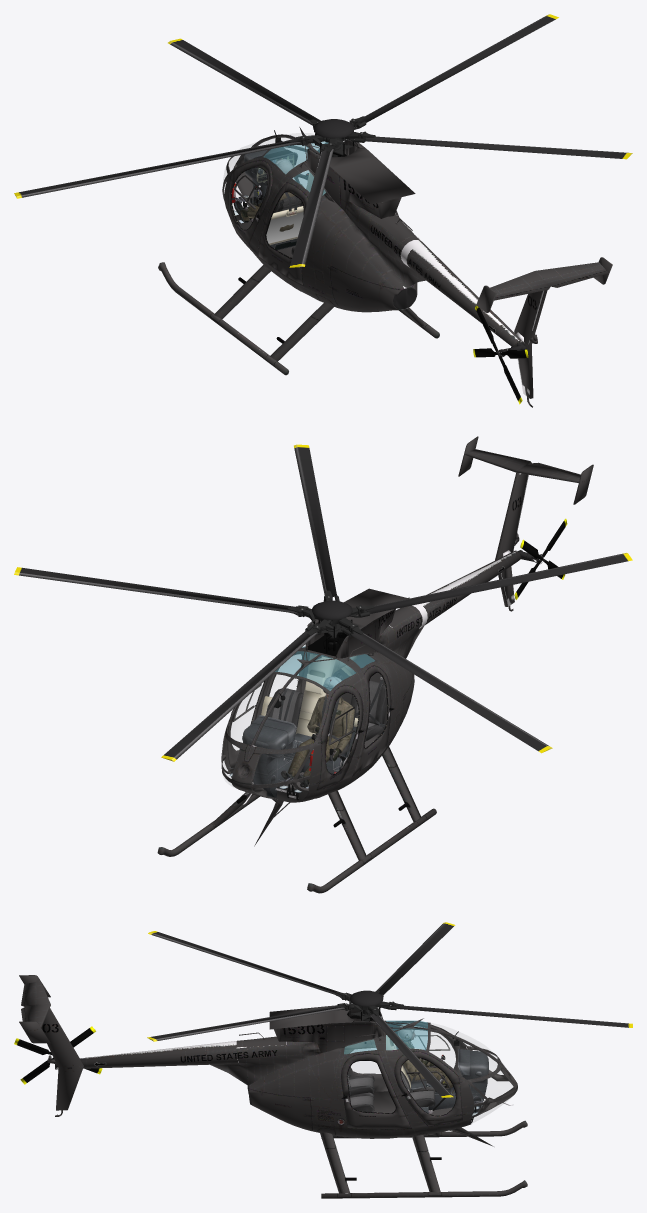
The picture shows the model from 3 angles, top to bottom: view 1: azimuth 30°, elevation 25°; view 2: azimuth 150°, elevation 25°; view 3: azimuth 270°, elevation 25°; orthographic projection. The views are drawn at different scales.
Parts seen in each view (by area): view 1: ext_fuse1, rotor_blades, int_fuse, ext_fuse1_skids, ext_fuse1_doors, ixt_console, glasss_grn, rotor_tail, rotor_hub, ixt_pilotR; view 2: ext_fuse1, rotor_blades, ixt_console, ext_fuse1_doors, ext_fuse1_skids, int_fuse, ixt_pilotR, glasss_grn, ixt_seatsB, glass, rotor_hub, ixt_seatsR (+1 smaller); view 3: ext_fuse1, rotor_blades, ext_fuse1_doors, int_fuse, ext_fuse1_skids, ixt_console, glass, glasss_grn, ixt_seatsB, rotor_tail, ixt_pilotR, rotor_hub (+2 smaller).
Boxes of the visible parts, x1,y1,x2,y2 form: ext_fuse1: (222, 127, 612, 407); rotor_blades: (14, 14, 632, 267); int_fuse: (222, 136, 416, 311); ext_fuse1_skids: (158, 262, 439, 375); ext_fuse1_doors: (228, 160, 308, 284); ixt_console: (231, 147, 325, 250); glasss_grn: (263, 141, 328, 195); rotor_tail: (473, 305, 528, 404); rotor_hub: (314, 119, 353, 156); ixt_pilotR: (233, 159, 304, 231); ext_fuse1: (221, 436, 593, 846); rotor_blades: (14, 444, 632, 761); ixt_console: (242, 653, 358, 797); ext_fuse1_doors: (227, 651, 393, 789); ext_fuse1_skids: (157, 746, 436, 893); int_fuse: (221, 648, 414, 800); ixt_pilotR: (280, 676, 354, 787); glasss_grn: (275, 646, 374, 690); ixt_seatsB: (332, 671, 387, 741); glass: (223, 674, 297, 787); rotor_hub: (312, 600, 352, 644); ixt_seatsR: (266, 688, 303, 733); ext_fuse1: (19, 975, 517, 1146); rotor_blades: (147, 922, 632, 1097); ext_fuse1_doors: (341, 1022, 462, 1129); int_fuse: (248, 1021, 515, 1138); ext_fuse1_skids: (320, 1120, 527, 1198); ixt_console: (344, 1035, 488, 1113); glass: (351, 1023, 512, 1123); glasss_grn: (344, 1020, 427, 1054); ixt_seatsB: (347, 1071, 374, 1112); rotor_tail: (14, 1026, 102, 1084); ixt_pilotR: (398, 1022, 452, 1087); rotor_hub: (349, 990, 383, 1020).
Size of the model in its own units: 7.65 by 3.22 by 9.27.
14 materials, 11 textured.
